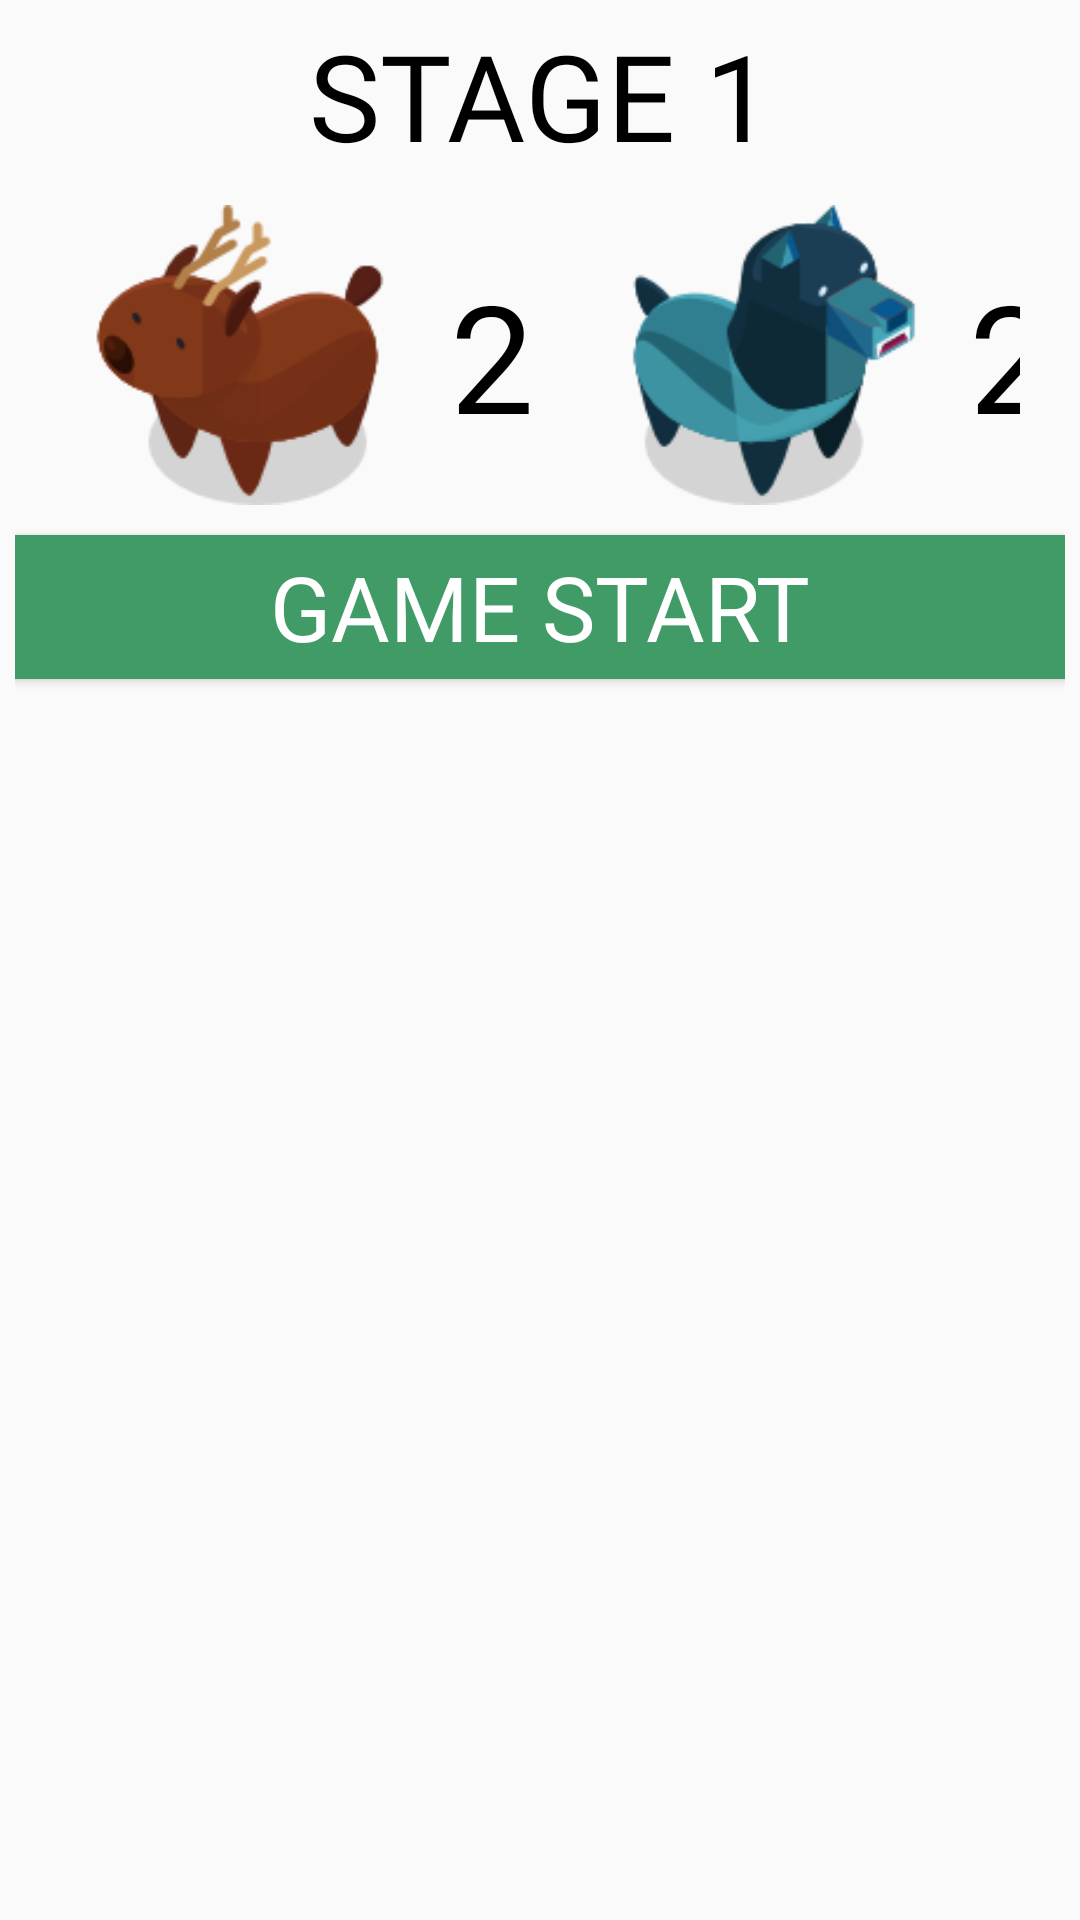

Icons on this 1080 × 1920 Android screen, each with its box as (x1, y1, x2, y2):
reindeer: (96, 205, 384, 505)
wolf: (633, 205, 915, 505)
